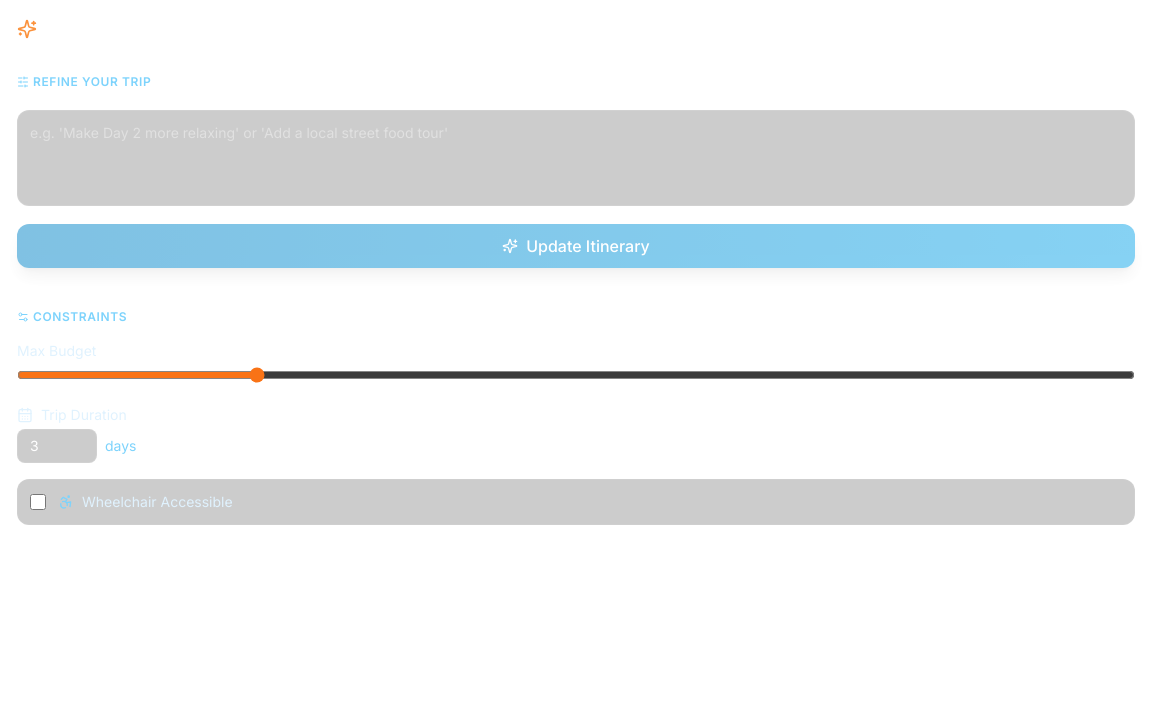
Test: ExperienceEngine › enables submit button when prompt has content
The image size is (1152, 720).
Type "Add a street food tour" into the text box with placeholder "Make Day 2 more relaxing" at x=576, y=158, box [17,110,1135,206]
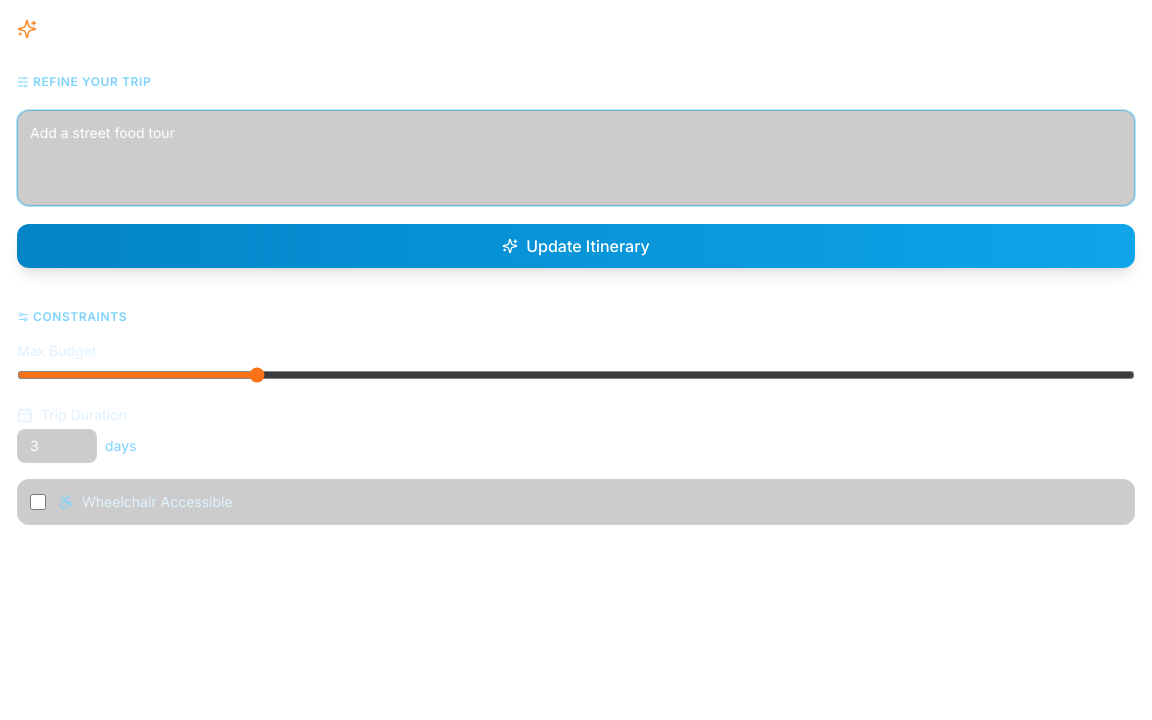
Expected: the button "Update Itinerary" is enabled, [17,224,1135,268]
